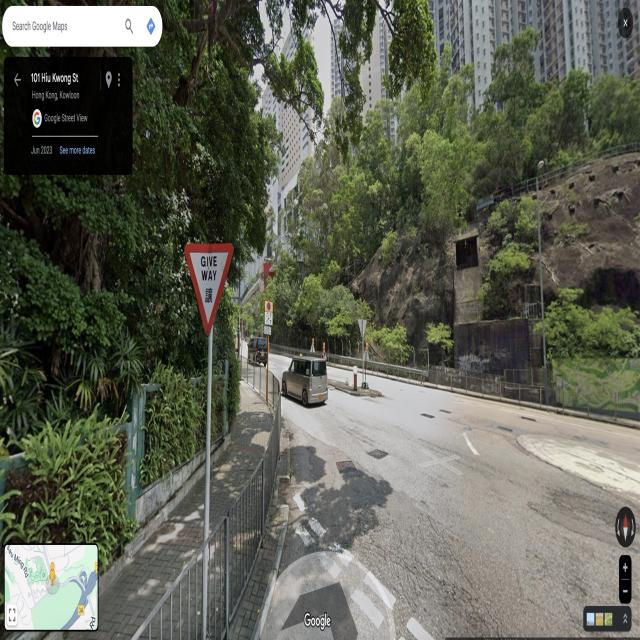Order-Sign: (265, 301, 272, 325), (264, 326, 272, 334)
Warning-Sign: (186, 244, 233, 336), (322, 350, 327, 358)
